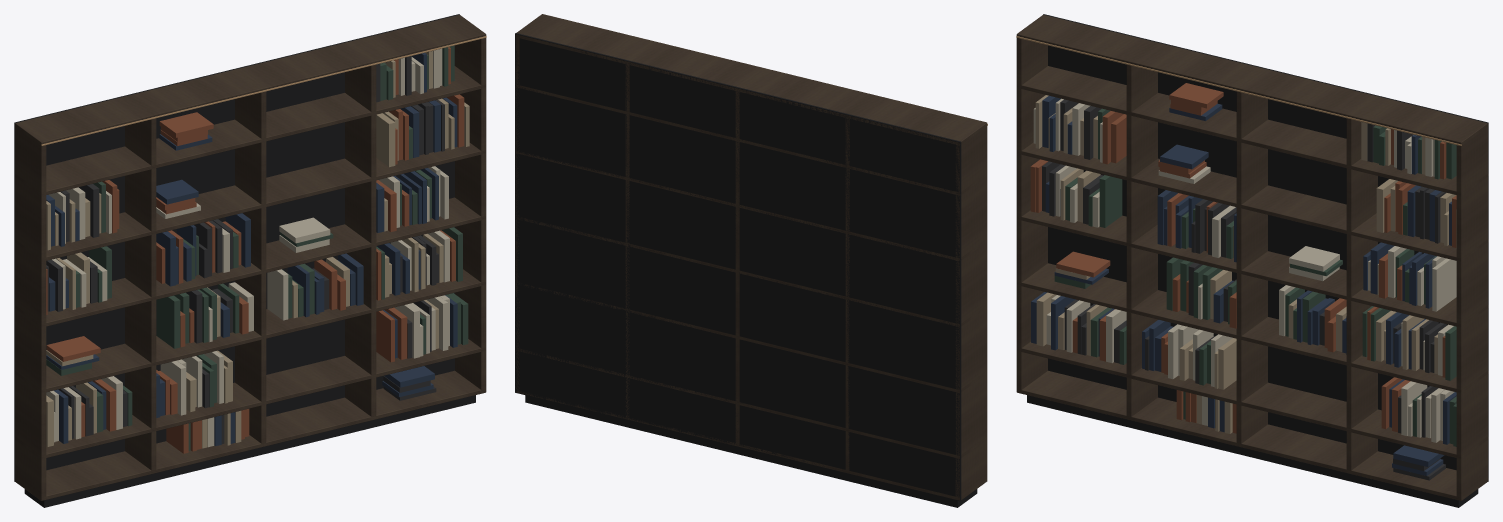
The model's file is living_shelving.gltf.
3 renders of one model, left to right at view 1: azimuth 30°, elevation 25°; view 2: azimuth 150°, elevation 25°; view 3: azimuth 330°, elevation 25°, orthographic.
Visible parts, largest first — view 1: LivingShelving_Back, LivingShelving_Books1, LivingShelving_Books0, LivingShelving_Shelf5, LivingShelving_Books3, LivingShelving_Upright0, LivingShelving_Books2, LivingShelving_Base, LivingShelving_Shelf4, LivingShelving_Books5, LivingShelving_Upright1, LivingShelving_Books4 (+9 smaller); view 2: LivingShelving_Back, LivingShelving_Shelf5, LivingShelving_Upright0, LivingShelving_Plinth, LivingShelving_Upright2, LivingShelving_Shelf4, LivingShelving_Shelf2, LivingShelving_Shelf3, LivingShelving_Shelf0, LivingShelving_Upright1, LivingShelving_Shelf1, LivingShelving_Base (+2 smaller); view 3: LivingShelving_Back, LivingShelving_Books1, LivingShelving_Shelf5, LivingShelving_Books0, LivingShelving_Books3, LivingShelving_Upright4, LivingShelving_Books2, LivingShelving_Books5, LivingShelving_Base, LivingShelving_Shelf4, LivingShelving_Books4, LivingShelving_Upright2 (+9 smaller).
Part boxes in pixels (x1,y1,x2,y2): LivingShelving_Back: (14, 14, 459, 481); LivingShelving_Books1: (46, 53, 457, 446); LivingShelving_Books0: (46, 48, 449, 447); LivingShelving_Shelf5: (15, 15, 485, 145); LivingShelving_Books3: (46, 47, 464, 453); LivingShelving_Upright0: (15, 123, 46, 500); LivingShelving_Books2: (46, 45, 468, 450); LivingShelving_Base: (14, 370, 485, 500); LivingShelving_Shelf4: (15, 66, 485, 195); LivingShelving_Books5: (46, 51, 469, 448); LivingShelving_Upright1: (125, 114, 156, 470); LivingShelving_Books4: (46, 56, 444, 443); LivingShelving_Back: (515, 33, 961, 501); LivingShelving_Shelf5: (515, 14, 987, 145); LivingShelving_Upright0: (955, 123, 987, 499); LivingShelving_Plinth: (525, 395, 977, 507); LivingShelving_Upright2: (735, 88, 739, 446); LivingShelving_Shelf4: (516, 84, 987, 195); LivingShelving_Shelf2: (516, 216, 987, 327); LivingShelving_Shelf3: (515, 151, 987, 261); LivingShelving_Shelf0: (516, 348, 987, 458); LivingShelving_Upright1: (845, 115, 849, 472); LivingShelving_Shelf1: (515, 282, 987, 392); LivingShelving_Base: (516, 390, 987, 500); LivingShelving_Back: (1043, 14, 1488, 481); LivingShelving_Books1: (1031, 95, 1456, 475); LivingShelving_Shelf5: (1017, 15, 1488, 145); LivingShelving_Books0: (1033, 98, 1456, 442); LivingShelving_Books3: (1030, 83, 1456, 433); LivingShelving_Upright4: (1456, 123, 1487, 500); LivingShelving_Books2: (1054, 108, 1456, 446); LivingShelving_Books5: (1035, 95, 1456, 437); LivingShelving_Base: (1017, 370, 1488, 500); LivingShelving_Shelf4: (1017, 66, 1488, 195); LivingShelving_Books4: (1042, 99, 1446, 480); LivingShelving_Upright2: (1236, 87, 1267, 447).
Bounding box in the file's own units: 3.4 × 2.7 × 0.365.
Materials: 9 (1 with a texture image).
